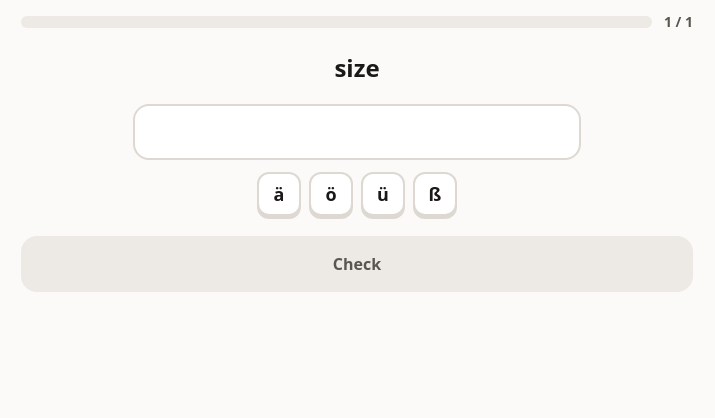
it: Spell › types answers, with the umlaut keyboard and an "almost" verdict for ae/oe
In the field named "Your answer": [357, 132] box [133,104,581,160], type "Gro"
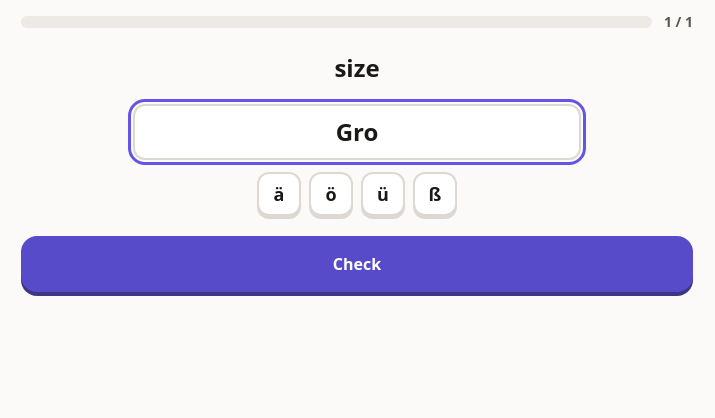
Click the button "ß": [435, 194] box [413,172,457,216]
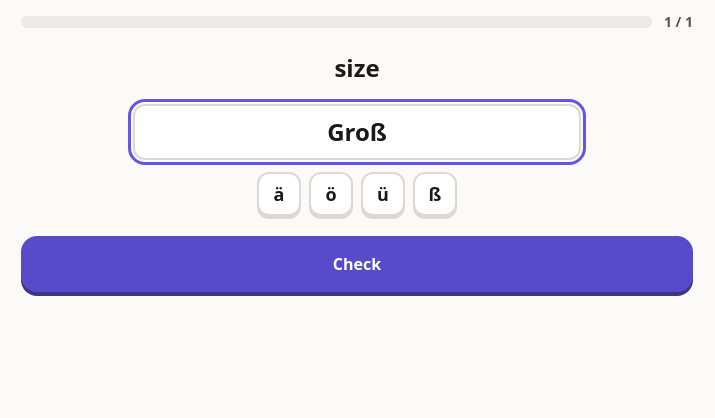
In the field named "Your answer": [357, 132] box [133,104,581,160], type "e"
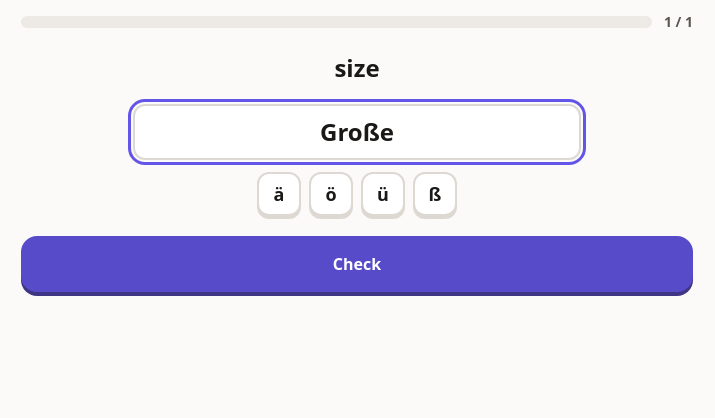
Check: the field named "Your answer" holds "Große"
Replace the text in the field named "Your answer" with "Groesse": [357, 132] box [133,104,581,160]
Then press Enter
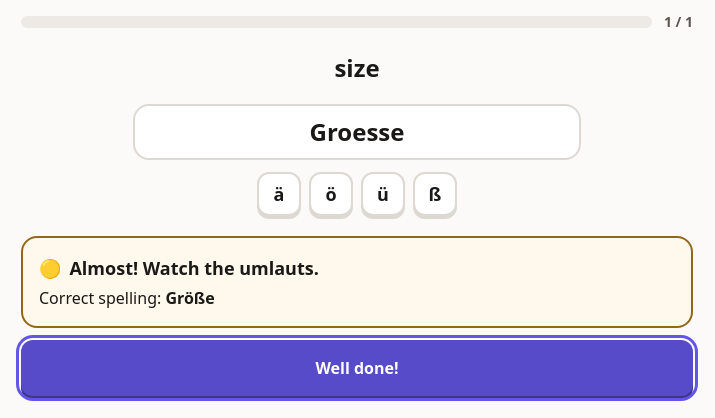
Check: the text "Größe" is shown, box [165,287,215,309]
